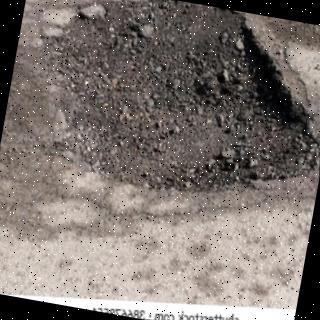pothole: (46, 0, 318, 192)
